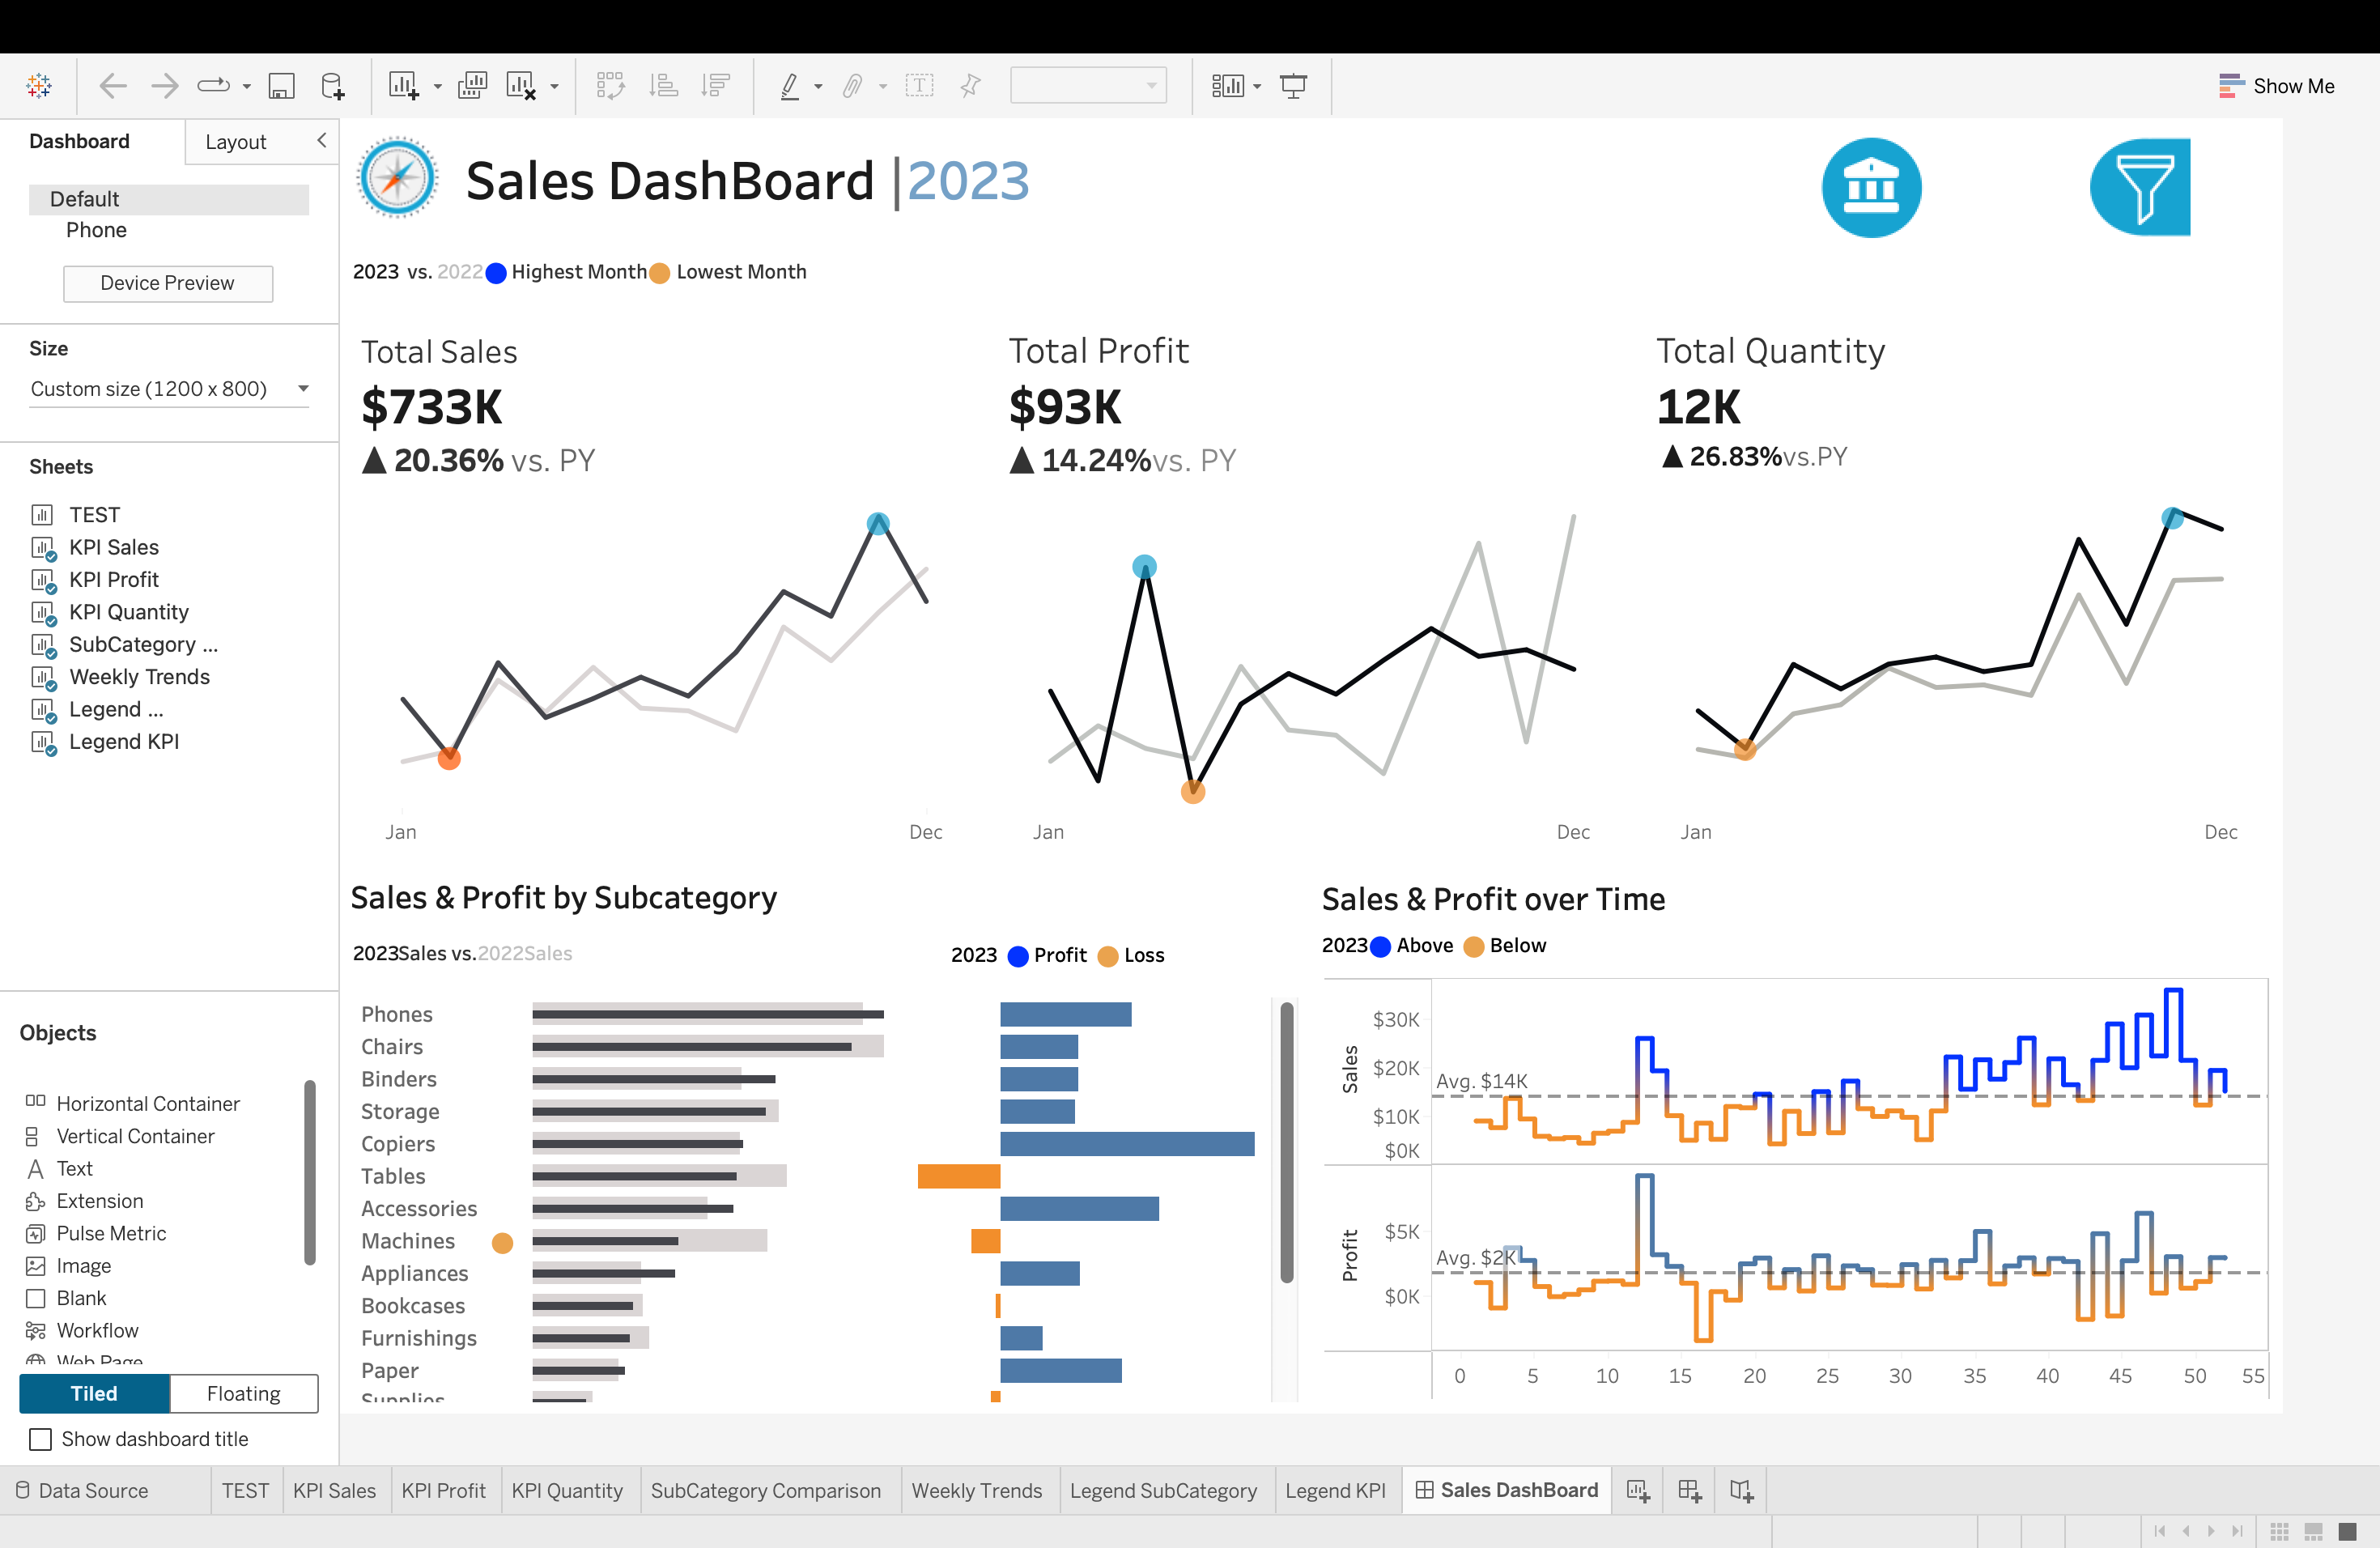

The dashboard page shown, as its layout file describes it:
{"tool":"tableau","page":{"name":"Sales DashBoard","canvas":[1200,800],"ordinal":0},"visuals":[{"type":"image","param":"Image/Icon - Logo.png","box":[0,0,71,74]},{"type":"text","box":[71,0,798,74]},{"type":"dashboard-object","box":[864,7,165,72]},{"type":"blank","box":[1019,7,170,77]},{"type":"dashboard-object","box":[1029,7,164,72]},{"type":"worksheet","title":"Legend KPI","mark":"Automatic","box":[0,74,1200,41]},{"type":"text","box":[1019,84,170,54]},{"type":"worksheet","title":"KPI Sales","mark":"Automatic","rows":["Calculation_5697590796865541"],"cols":["Order Date"],"box":[0,115,400,349]},{"type":"worksheet","title":"KPI Profit","mark":"Line","rows":["Min/Max Sales  (copy)_5697590829469711"],"cols":["Order Date"],"box":[400,115,400,349]},{"type":"worksheet","title":"KPI Quantity","mark":"Line","rows":["Min/Max Profit (copy)_5780191888982023"],"cols":["Order Date"],"box":[800,115,400,349]},{"type":"parameter","param":"[Parameters].[Parameter 1]","box":[1019,138,170,71]},{"type":"text","box":[1019,209,170,39]},{"type":"filter","title":"KPI Sales","param":"[federated.19scs4g1rom9k6111bvyw1vbxu41].[none:Category:nk]","box":[1019,248,170,52]},{"type":"filter","title":"KPI Sales","param":"[federated.19scs4g1rom9k6111bvyw1vbxu41].[none:Sub-Category:nk]","box":[1019,300,170,52]},{"type":"blank","box":[1019,352,170,32]},{"type":"text","box":[1019,384,170,25]},{"type":"filter","title":"KPI Sales","param":"[federated.19scs4g1rom9k6111bvyw1vbxu41].[none:Region:nk]","box":[1019,409,170,52]},{"type":"filter","title":"KPI Sales","param":"[federated.19scs4g1rom9k6111bvyw1vbxu41].[none:State:nk]","box":[1019,461,170,52]},{"type":"text","box":[0,464,600,32]},{"type":"text","box":[600,464,600,34]},{"type":"worksheet","title":"Legend SubCategory","mark":"Automatic","box":[0,496,371,40]},{"type":"text","box":[371,496,229,40]},{"type":"text","box":[600,498,600,25]},{"type":"filter","title":"KPI Sales","param":"[federated.19scs4g1rom9k6111bvyw1vbxu41].[none:City:nk]","box":[1019,513,170,52]},{"type":"worksheet","title":"Weekly Trends","mark":"Automatic","rows":["Calculation_5697590783131648","Calculation_5697590821842955"],"cols":["Order Date"],"box":[600,523,600,277]},{"type":"worksheet","title":"SubCategory Comparison","mark":"Bar","rows":["Sub-Category","Calculation_5780191929430027"],"cols":["CY_sales (copy)_5697590787551234","Calculation_5697590783131648","Calculation_5697590821842955"],"box":[0,536,600,264]}]}

Visuals, with their boxes on the page's 1200x800 design canvas (x1, y1, x2, y2). These are canvas units, not pixel positions in the 2380x1548 screenshot, which may show the page scaled, cropped or inside an application window:
image: left=0, top=0, right=71, bottom=74
text: left=71, top=0, right=869, bottom=74
dashboard-object: left=864, top=7, right=1029, bottom=79
blank: left=1019, top=7, right=1189, bottom=84
dashboard-object: left=1029, top=7, right=1193, bottom=79
"Legend KPI" worksheet: left=0, top=74, right=1200, bottom=115
text: left=1019, top=84, right=1189, bottom=138
"KPI Sales" worksheet: left=0, top=115, right=400, bottom=464
"KPI Profit" worksheet (Line marks): left=400, top=115, right=800, bottom=464
"KPI Quantity" worksheet (Line marks): left=800, top=115, right=1200, bottom=464
parameter: left=1019, top=138, right=1189, bottom=209
text: left=1019, top=209, right=1189, bottom=248
"KPI Sales" filter: left=1019, top=248, right=1189, bottom=300
"KPI Sales" filter: left=1019, top=300, right=1189, bottom=352
blank: left=1019, top=352, right=1189, bottom=384
text: left=1019, top=384, right=1189, bottom=409
"KPI Sales" filter: left=1019, top=409, right=1189, bottom=461
"KPI Sales" filter: left=1019, top=461, right=1189, bottom=513
text: left=0, top=464, right=600, bottom=496
text: left=600, top=464, right=1200, bottom=498
"Legend SubCategory" worksheet: left=0, top=496, right=371, bottom=536
text: left=371, top=496, right=600, bottom=536
text: left=600, top=498, right=1200, bottom=523
"KPI Sales" filter: left=1019, top=513, right=1189, bottom=565
"Weekly Trends" worksheet: left=600, top=523, right=1200, bottom=800
"SubCategory Comparison" worksheet (Bar marks): left=0, top=536, right=600, bottom=800
